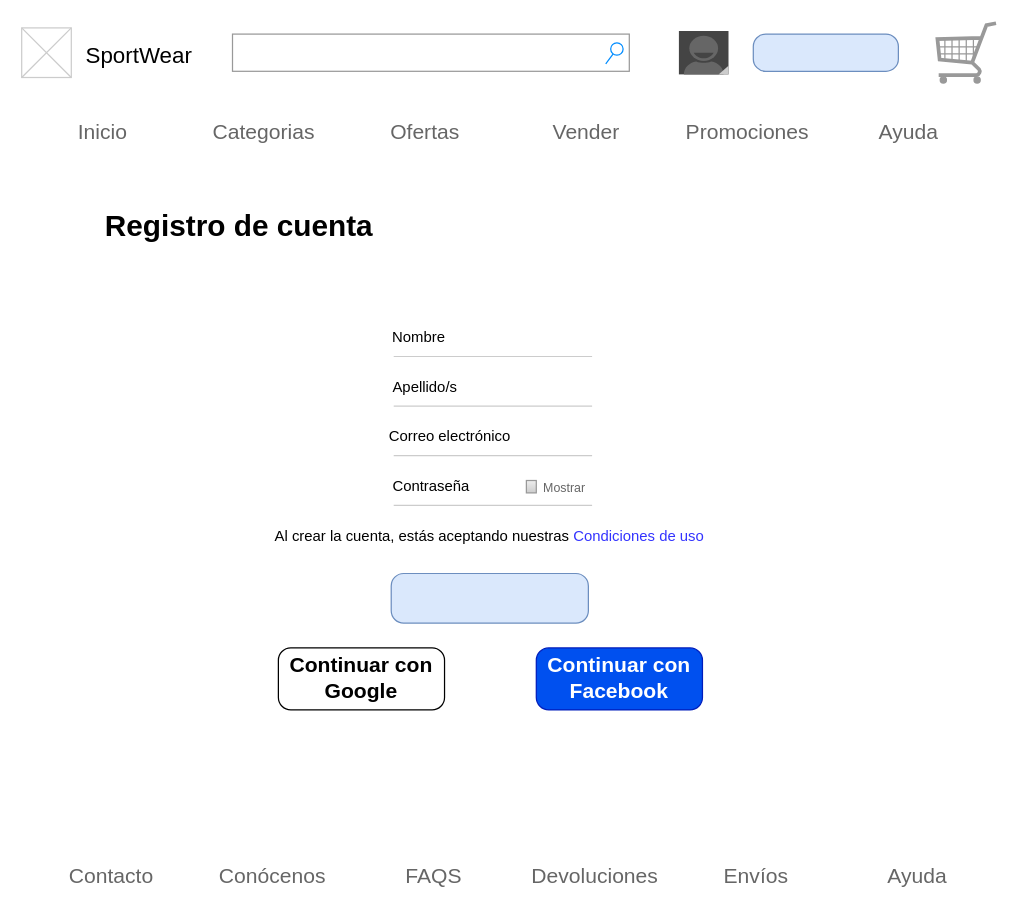
Some shapes in this 1019 by 918 pixel diagram are drawn without their labels. Each missing label, with the centre of its shape:
"Crear cuenta" goes at (x=489, y=597).
"Login" goes at (x=825, y=52).
"Logo" goes at (x=45, y=52).
"¿Qué estás buscando?" goes at (x=430, y=52).
